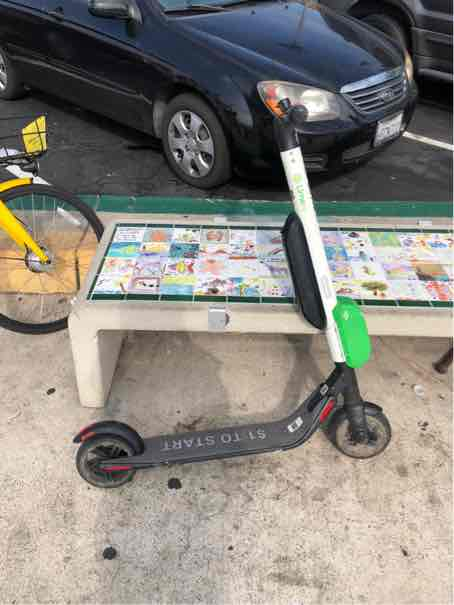scooter: (55, 83, 404, 498)
